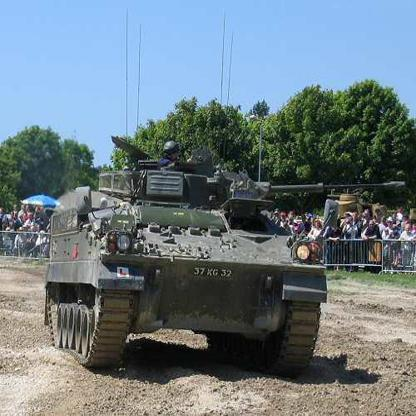Tank: (44, 143, 346, 384)
